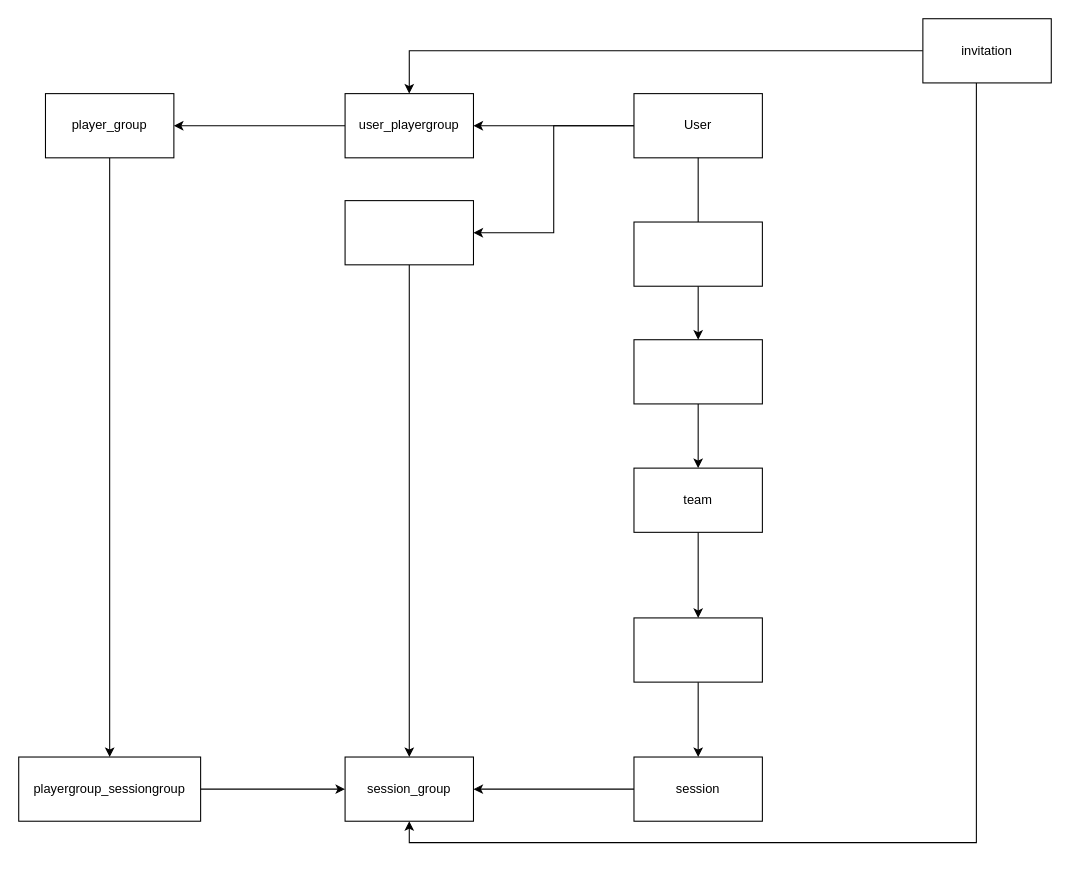
The diagram is 1070 pixels wide and 870 high, and some of its shapes have lost their labels. The shapes that lost their labels are listed below. From the top down, each one's centre as x and y in pixels, then its label:
point 408,232: user_sessiongroup
point 697,253: Player
point 697,371: player_t eam
point 697,649: game
